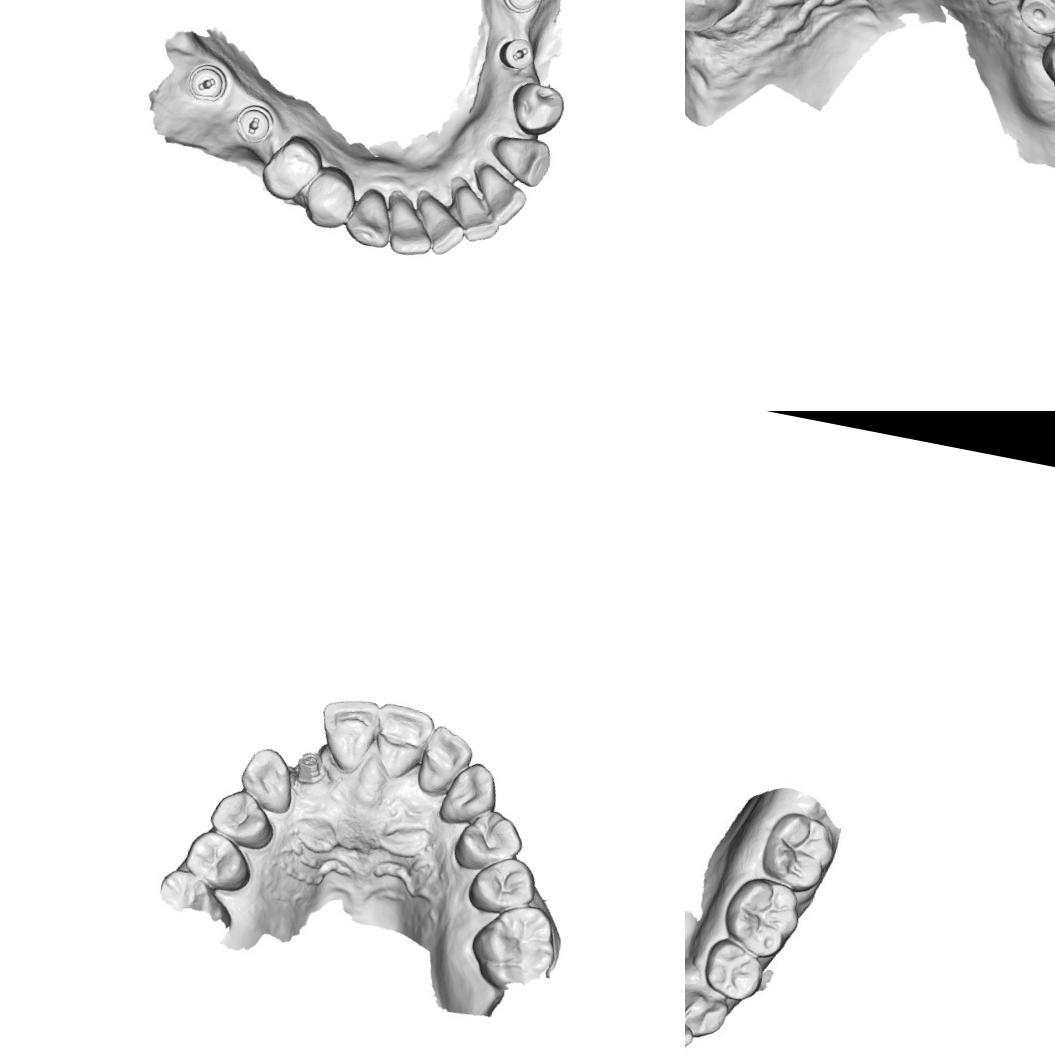canine: (434, 756, 504, 832), (234, 742, 300, 815), (489, 130, 555, 188), (342, 182, 397, 250), (685, 983, 732, 1045), (685, 0, 746, 40)
implant: (293, 750, 328, 786)
implant_minus: (183, 59, 232, 105), (232, 100, 278, 146), (495, 34, 536, 74), (498, 0, 543, 15)
incisor: (310, 691, 384, 778), (366, 700, 437, 786), (414, 722, 476, 800), (468, 163, 532, 230), (446, 186, 505, 246), (414, 202, 470, 260), (384, 204, 437, 260), (685, 998, 699, 1055)
molar: (463, 894, 564, 998), (716, 870, 808, 964), (754, 805, 842, 898)
premolar: (448, 803, 529, 879), (179, 826, 258, 896), (256, 128, 326, 206), (204, 782, 282, 852), (696, 934, 771, 1006), (464, 850, 540, 920), (298, 162, 360, 232), (504, 78, 568, 140), (1012, 0, 1055, 42)
